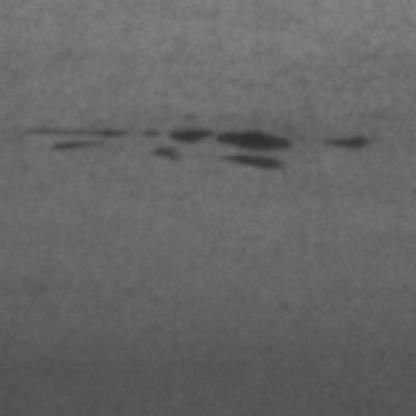inclusion: (17, 114, 303, 171), (312, 125, 378, 154)
